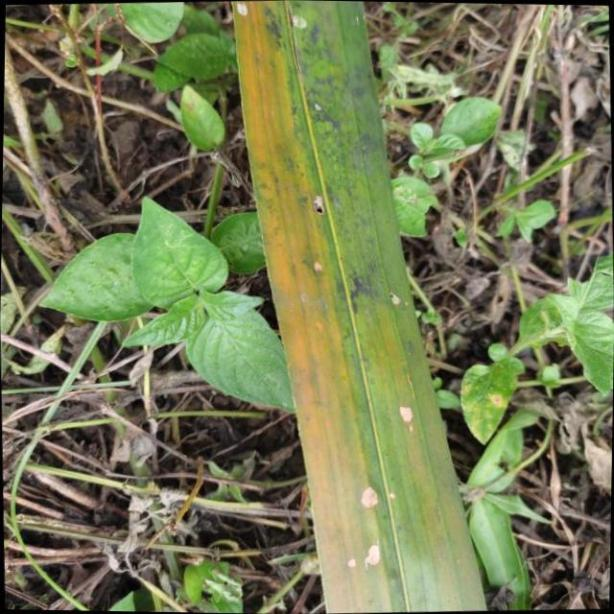Megnesium: (227, 0, 488, 614)
